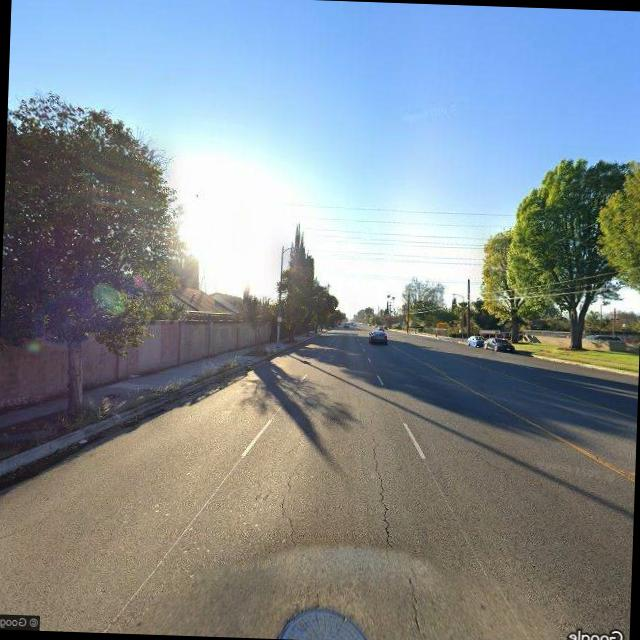pothole: (365, 433, 402, 550), (275, 457, 306, 548)
